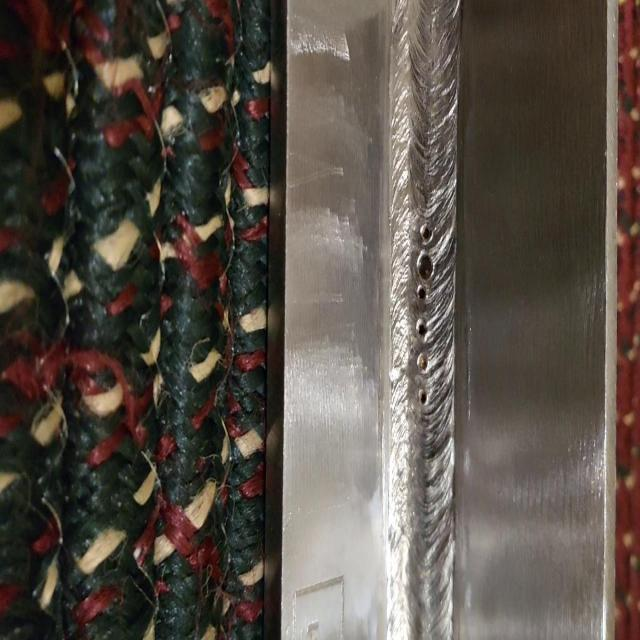Welding Line: (388, 7, 455, 640)
Workpiece: (277, 2, 618, 640)
porosity: (415, 223, 436, 405)
